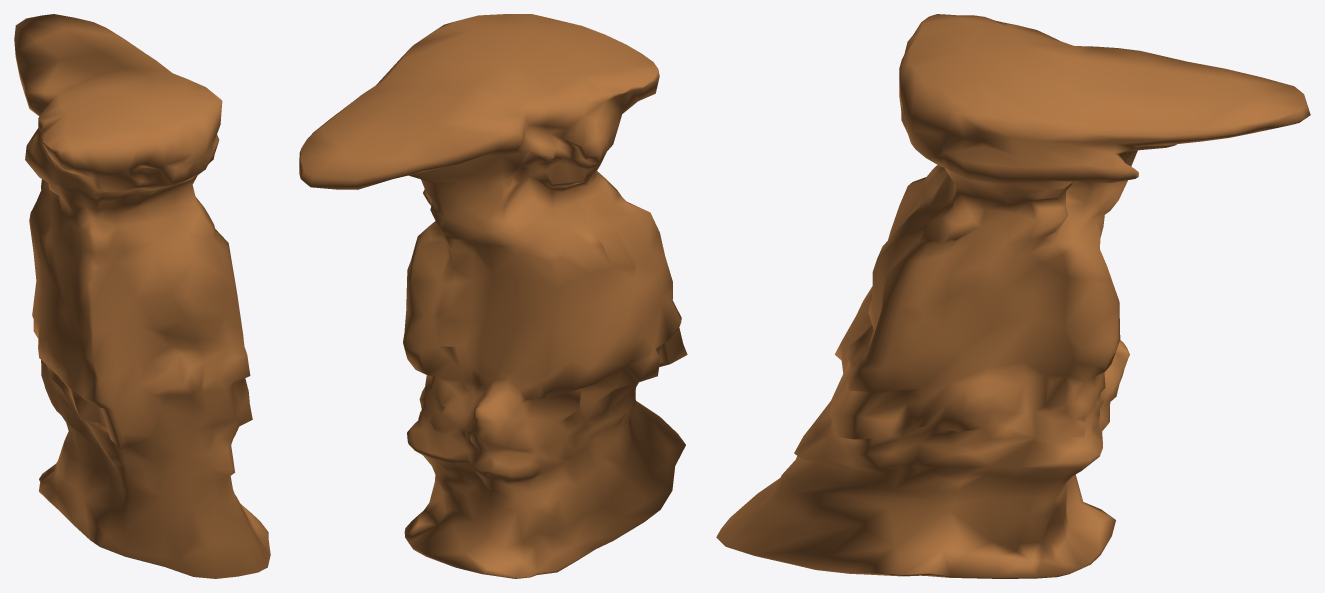
Rendered from MSH_Rocks_Cliff_22_b.FBX.
3 renders of one model, left to right at view 1: azimuth 30°, elevation 25°; view 2: azimuth 150°, elevation 25°; view 3: azimuth 270°, elevation 25°, orthographic. The views are drawn at different scales.
Parts seen in each view (by area): view 1: MESH_LOD0; view 2: MESH_LOD0; view 3: MESH_LOD0.
Part boxes in pixels (left/top/right/bottom): MESH_LOD0: left=14, top=14, right=270, bottom=578; MESH_LOD0: left=299, top=14, right=687, bottom=578; MESH_LOD0: left=716, top=14, right=1310, bottom=578.
Size of what is drawn, in the model's own units: 195 by 416 by 452.
